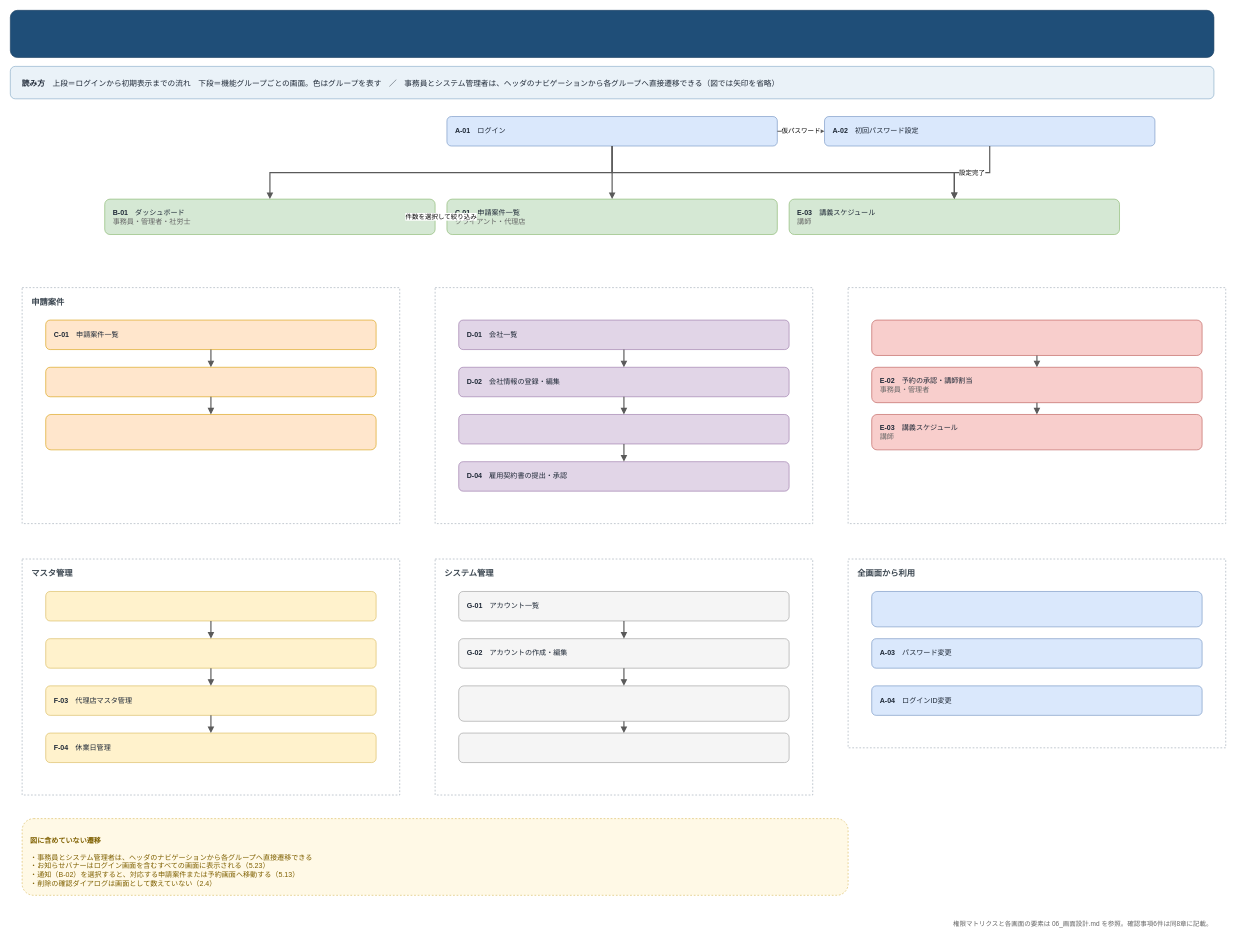
Some shapes in this 1236 by 944 pixel diagram are drawn without their labels. The shapes that lost their labels are listed below. From the top down, each one's box as (x1, y1, x2, y2) in pixels, then its label:
(10, 10, 1214, 58): 助成金管理システム 画面遷移図 出典：06_画面設計.md ／ 2026-09-04時点
(871, 319, 1202, 355): E-01 講義予約の申請 クライアント
(45, 367, 376, 397): C-09 申請案件の作成
(435, 287, 813, 524): 会社・受講者
(848, 287, 1226, 524): 予約・スケジュール
(45, 414, 376, 450): C-02〜C-08 案件詳細（7タブ） 基本情報／必要書類／契約書／見積・請求／予約・チーム／出欠／掲示板
(458, 414, 789, 444): D-03 受講者の登録・編集
(45, 591, 376, 621): F-01 カリキュラムマスタ管理
(871, 591, 1202, 627): B-02 通知一覧 ベルアイコン。代理店を除く
(45, 638, 376, 668): F-02 CSVインポート
(458, 685, 789, 721): G-03 お知らせ編集 管理者のみ
(458, 732, 789, 763): G-04 削除履歴
